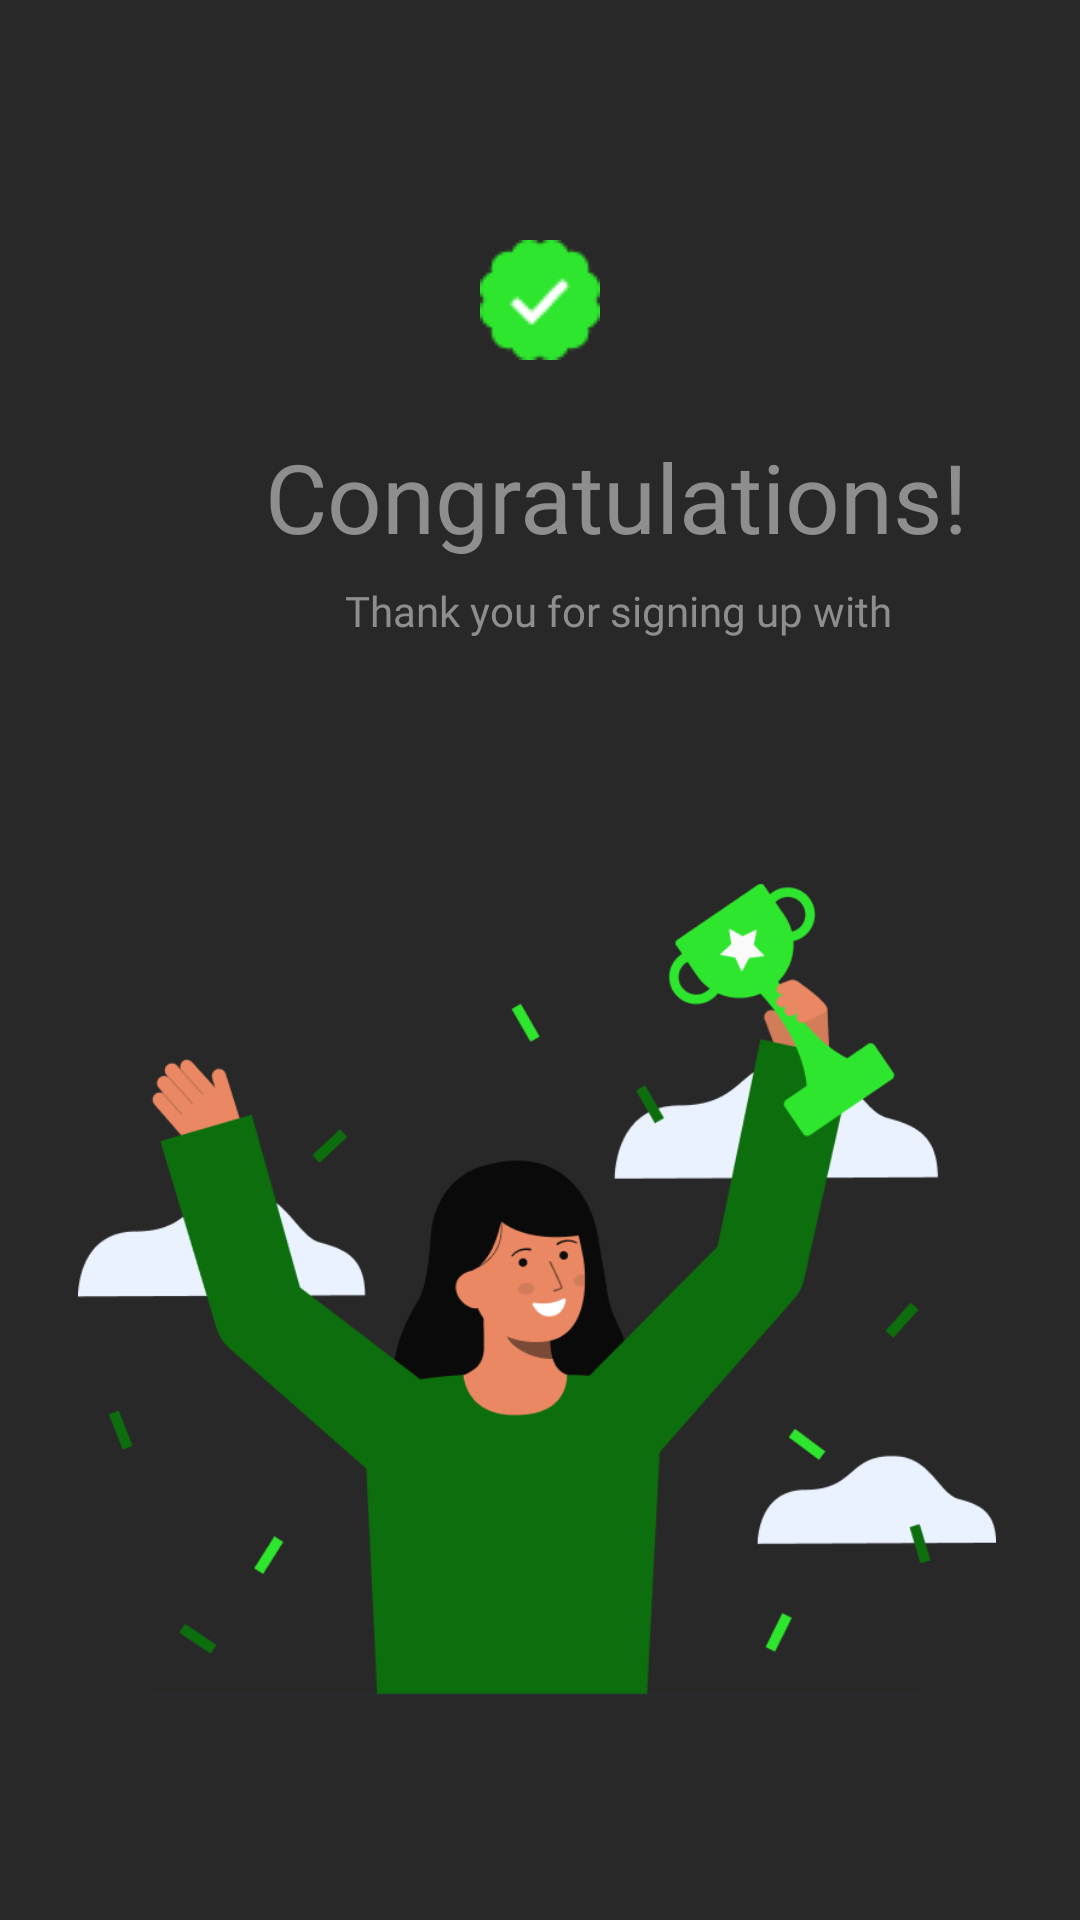

Point at icon controls on the screen. Image size 1080*1920, points as point (x, y).
successmark: point (540, 300)
